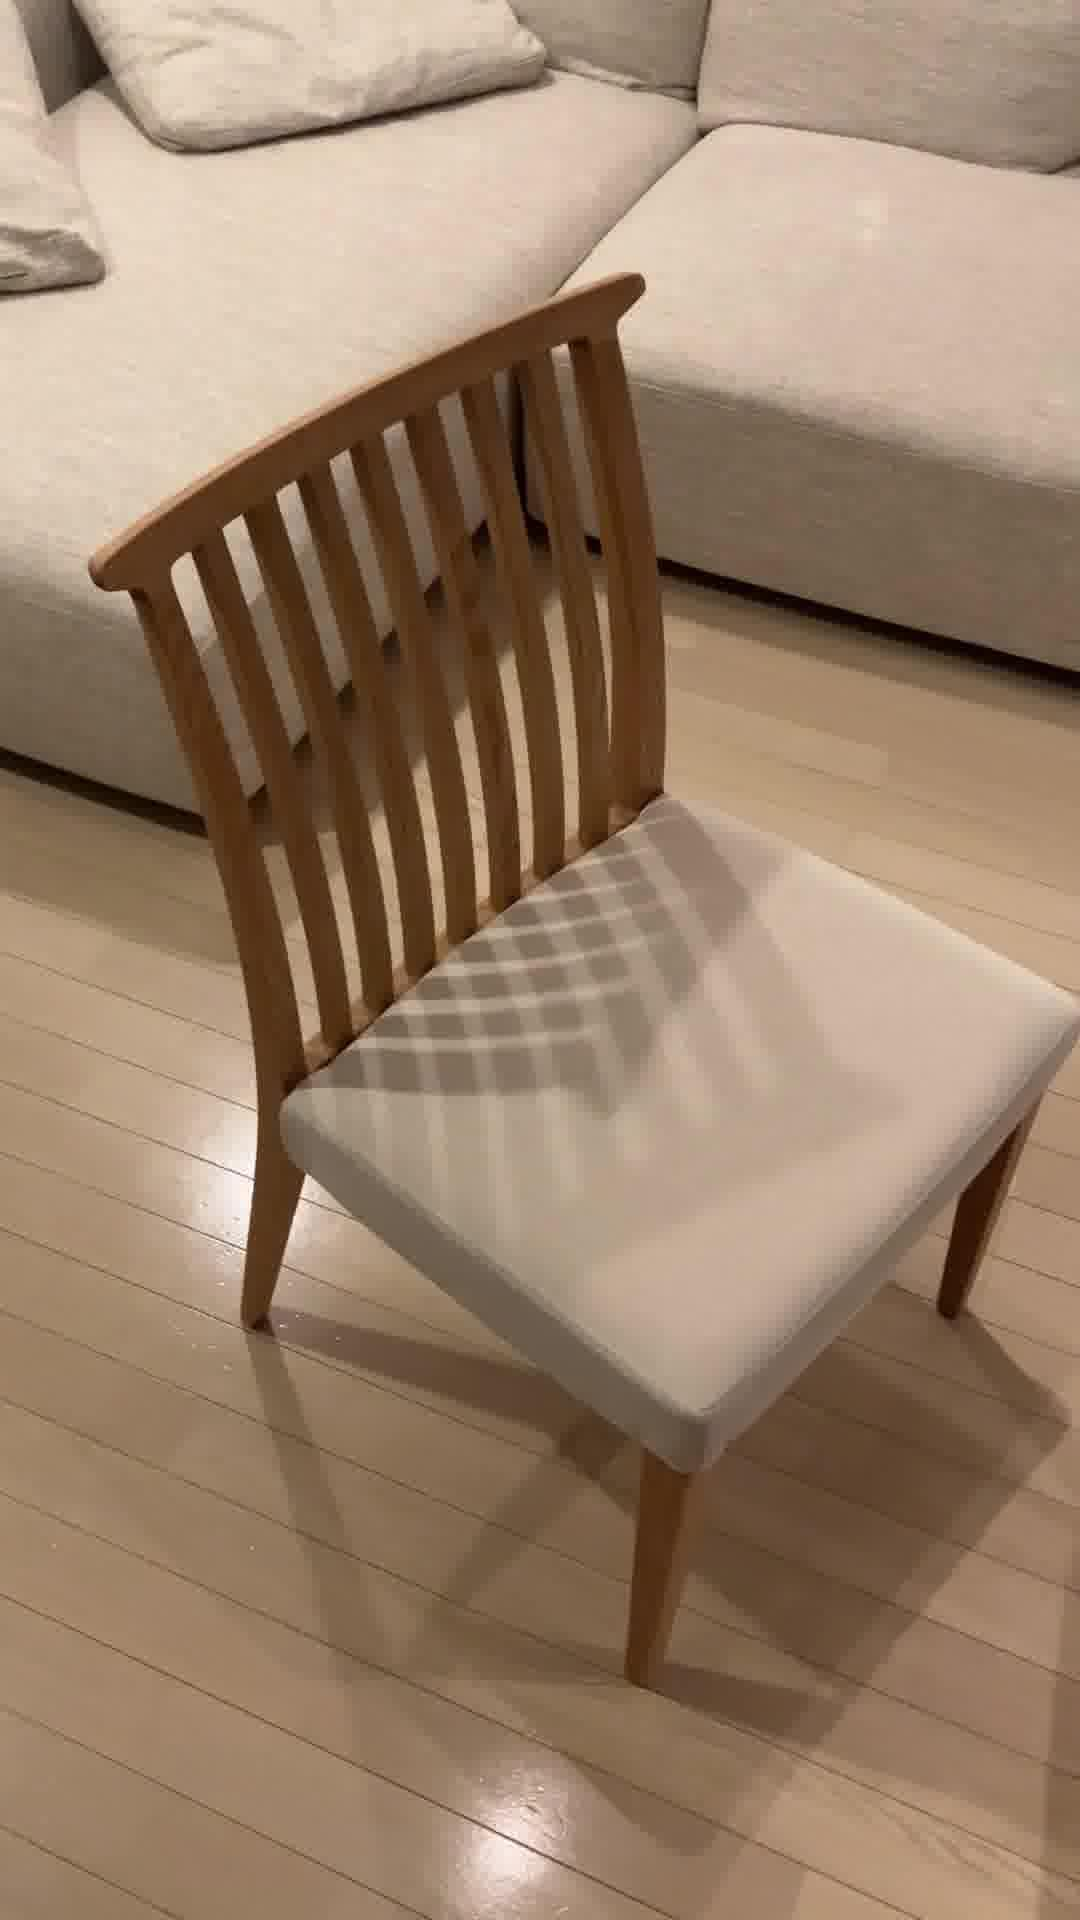takumikan-chair: (88, 266, 1080, 1692)
